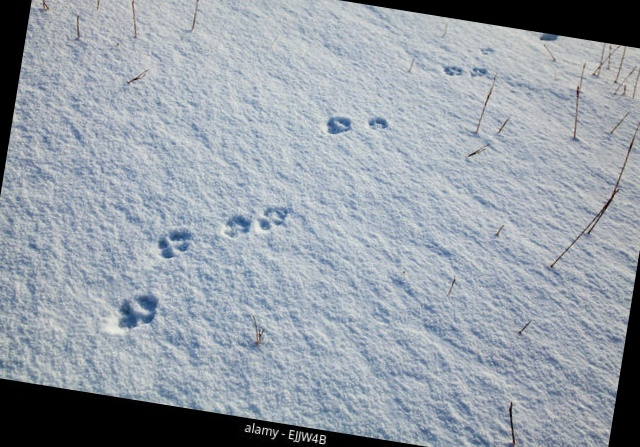fox: (205, 187, 305, 253), (97, 279, 177, 345), (145, 220, 205, 269)
